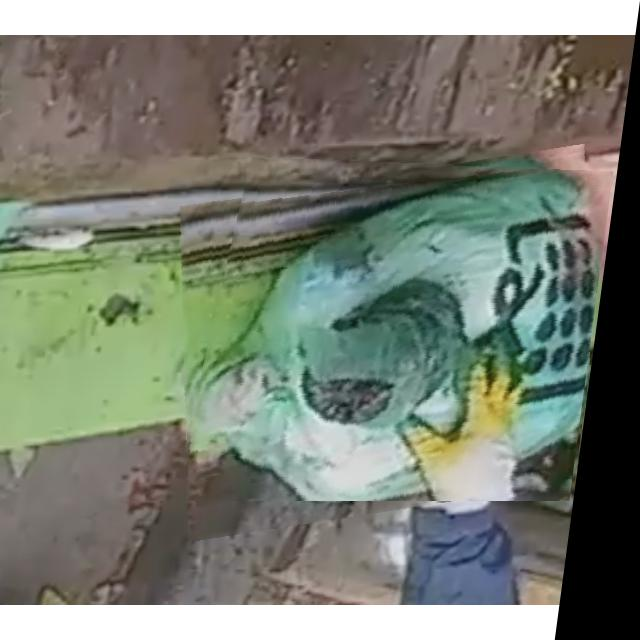general_trashbag: (203, 165, 606, 500)
